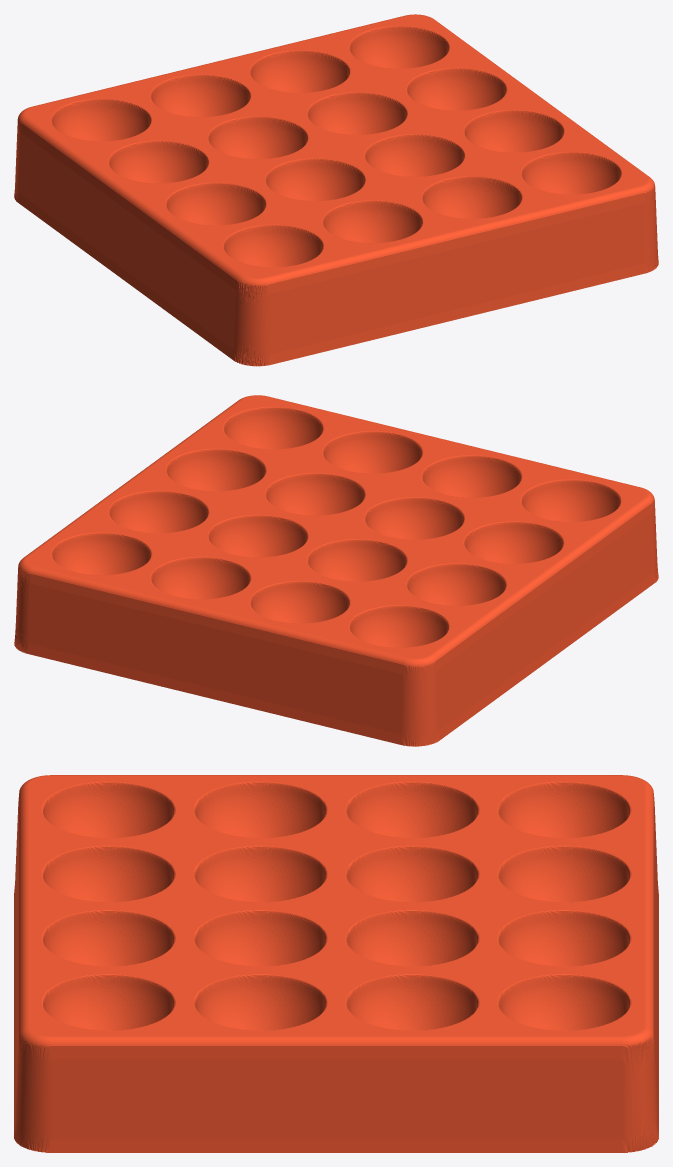
Rendered from mold.glb.
3 views of the same model, one above another, from view 1: azimuth 30°, elevation 25°; view 2: azimuth 150°, elevation 25°; view 3: azimuth 270°, elevation 25° (orthographic). The views are drawn at different scales.
Visible parts, largest first — view 1: geometry_0; view 2: geometry_0; view 3: geometry_0.
Part boxes in pixels (x1=…): geometry_0: x1=14, y1=14, x2=658, y2=366; geometry_0: x1=14, y1=395, x2=658, y2=746; geometry_0: x1=14, y1=775, x2=658, y2=1152.
Size of the model in its own units: 0.1569 by 0.0296 by 0.1569.
